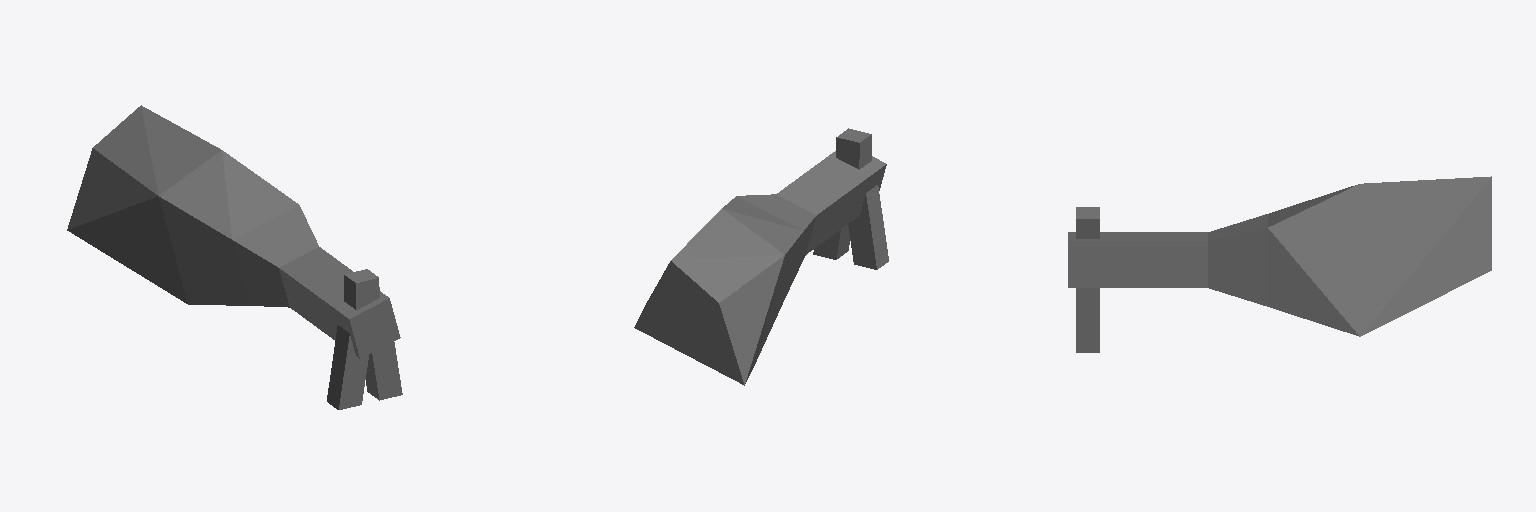
File: right_leg.obj
The picture shows the model from 3 angles: view 1: azimuth 30°, elevation 25°; view 2: azimuth 150°, elevation 25°; view 3: azimuth 270°, elevation 25°; orthographic projection.
Parts seen in each view (by area): view 1: Leg_Right; view 2: Leg_Right; view 3: Leg_Right.
Boxes of the visible parts, <box> form: Leg_Right: <box>67,105,402,409</box>; Leg_Right: <box>634,128,888,385</box>; Leg_Right: <box>1068,176,1491,352</box>.
Bounding box in the file's own units: 0.0145 × 0.0126 × 0.0321.